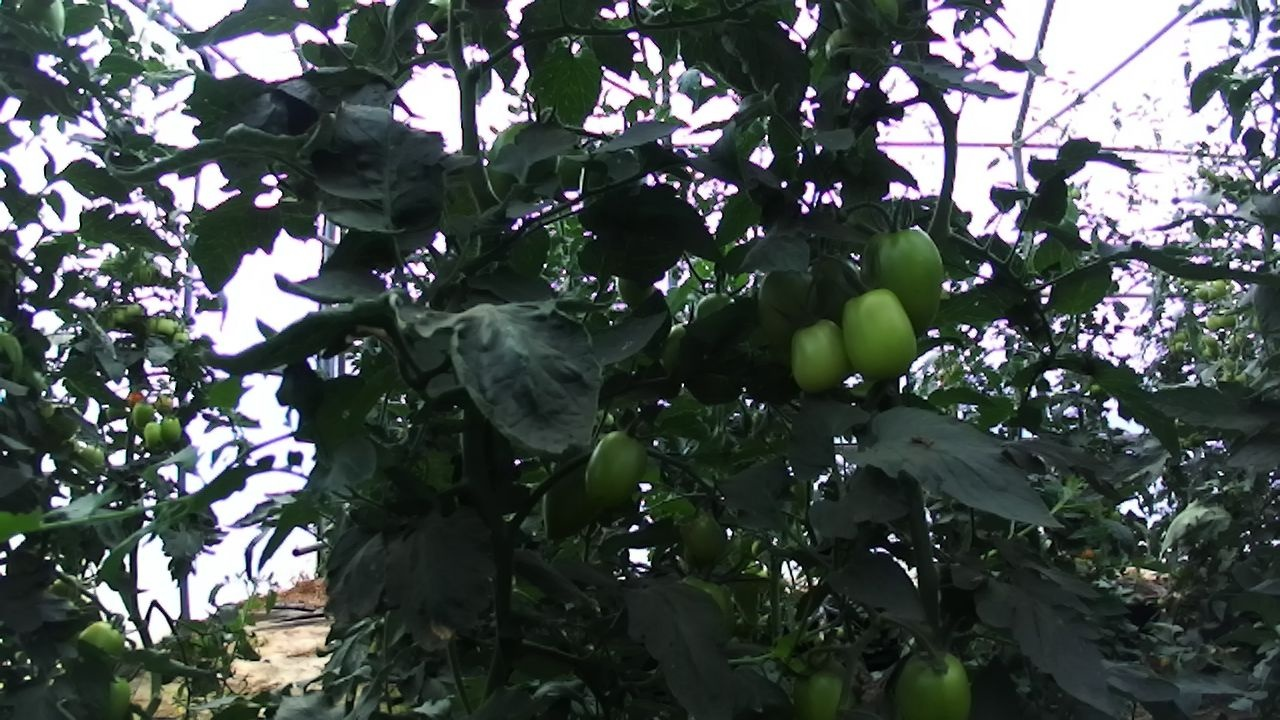tomato: (853, 204, 961, 350), (475, 96, 578, 216), (834, 276, 933, 392), (874, 634, 999, 720), (533, 427, 612, 549), (775, 305, 865, 406), (573, 422, 655, 521), (749, 258, 827, 352), (779, 653, 865, 720), (71, 604, 139, 680), (7, 0, 81, 62), (677, 505, 736, 572), (606, 258, 667, 318), (86, 667, 152, 720), (75, 434, 111, 476), (127, 397, 161, 432), (157, 411, 186, 448), (140, 417, 167, 451), (151, 388, 179, 417), (107, 301, 134, 328), (153, 313, 180, 339), (124, 387, 151, 410), (1212, 306, 1237, 330), (168, 326, 192, 350), (1209, 274, 1230, 299), (121, 301, 145, 320), (1203, 311, 1223, 333), (1193, 283, 1212, 301)
